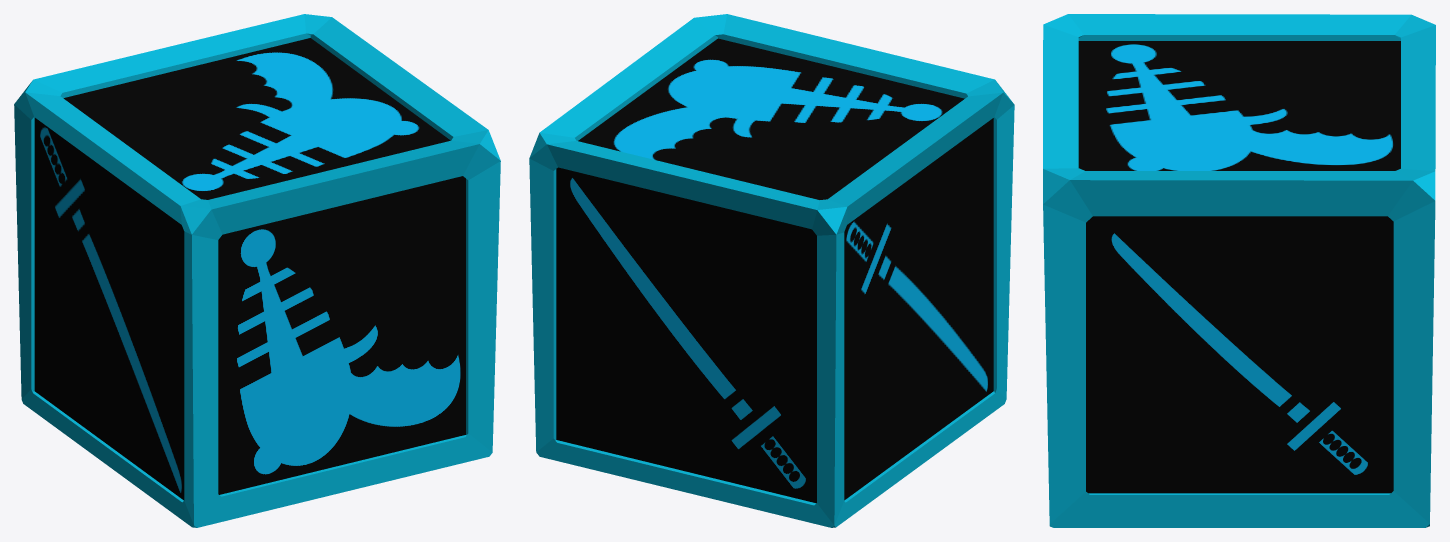
File: DiceWeapons.fbx
3 views of the same model, side by side, from view 1: azimuth 30°, elevation 25°; view 2: azimuth 150°, elevation 25°; view 3: azimuth 270°, elevation 25° (orthographic). The views are drawn at different scales.
Parts seen in each view (by area): view 1: Cube; view 2: Cube; view 3: Cube.
Boxes of the visible parts, bbox=[...] form: Cube: bbox=[14, 14, 500, 527]; Cube: bbox=[529, 14, 1014, 527]; Cube: bbox=[1043, 14, 1435, 527].
Size of the model in its own units: 207 by 203 by 207.
Materials: 7 (6 with a texture image).
